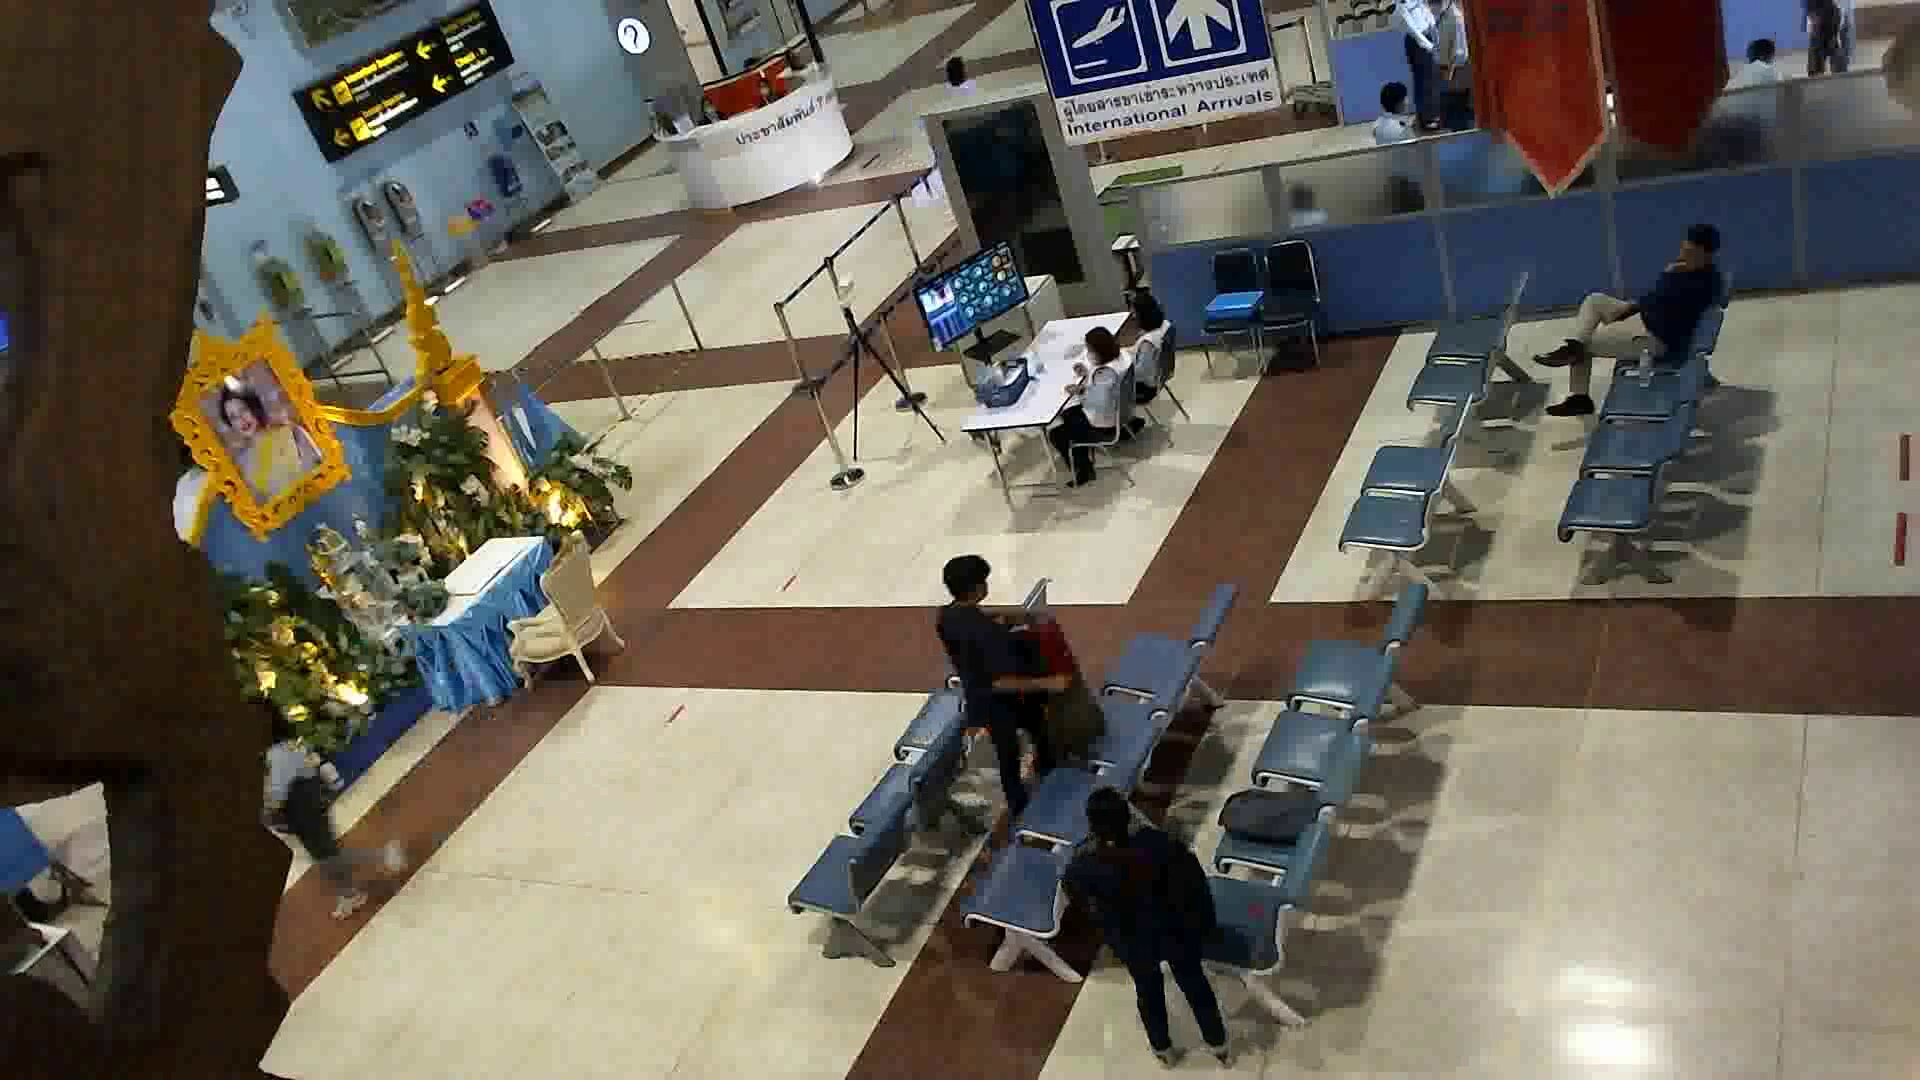backpack: (1218, 776, 1328, 849), (1047, 680, 1108, 770)
luggage: (999, 605, 1081, 693)
people: (1066, 790, 1233, 1080), (1543, 213, 1726, 451), (231, 701, 424, 926), (924, 543, 1058, 822), (1041, 326, 1137, 480), (933, 45, 1001, 168), (1112, 288, 1172, 403)
